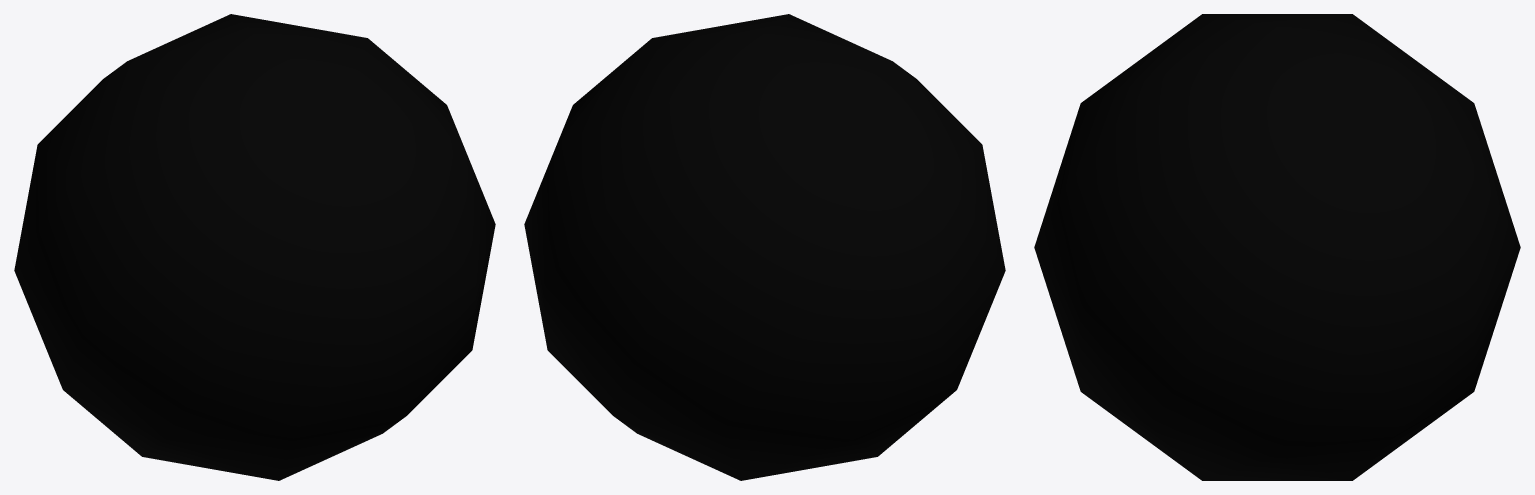
File: enemyBullet.obj
The picture shows the model from 3 angles, left to right: view 1: azimuth 30°, elevation 25°; view 2: azimuth 150°, elevation 25°; view 3: azimuth 270°, elevation 25°; orthographic projection. The views are drawn at different scales.
Parts seen in each view (by area): view 1: ICO球; view 2: ICO球; view 3: ICO球.
Boxes of the visible parts, x1=… form: ICO球: x1=14, y1=14, x2=495, y2=480; ICO球: x1=524, y1=14, x2=1005, y2=480; ICO球: x1=1034, y1=14, x2=1520, y2=480.
Bounding box in the file's own units: 1 × 1 × 1.
Materials: 1 (1 with a texture image).
